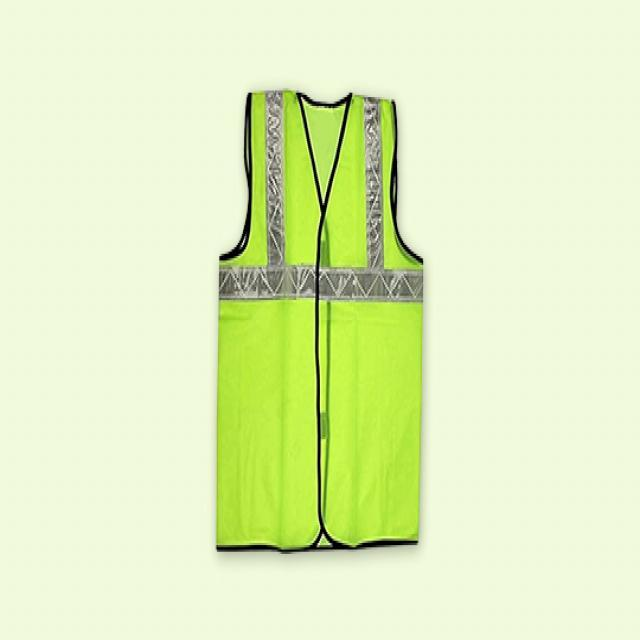construction-vest: (210, 86, 430, 560)
